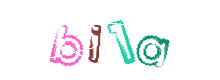1: (70, 0, 150, 80)
A: (100, 0, 180, 80)
B: (29, 0, 109, 80)
I: (55, 0, 135, 80)
